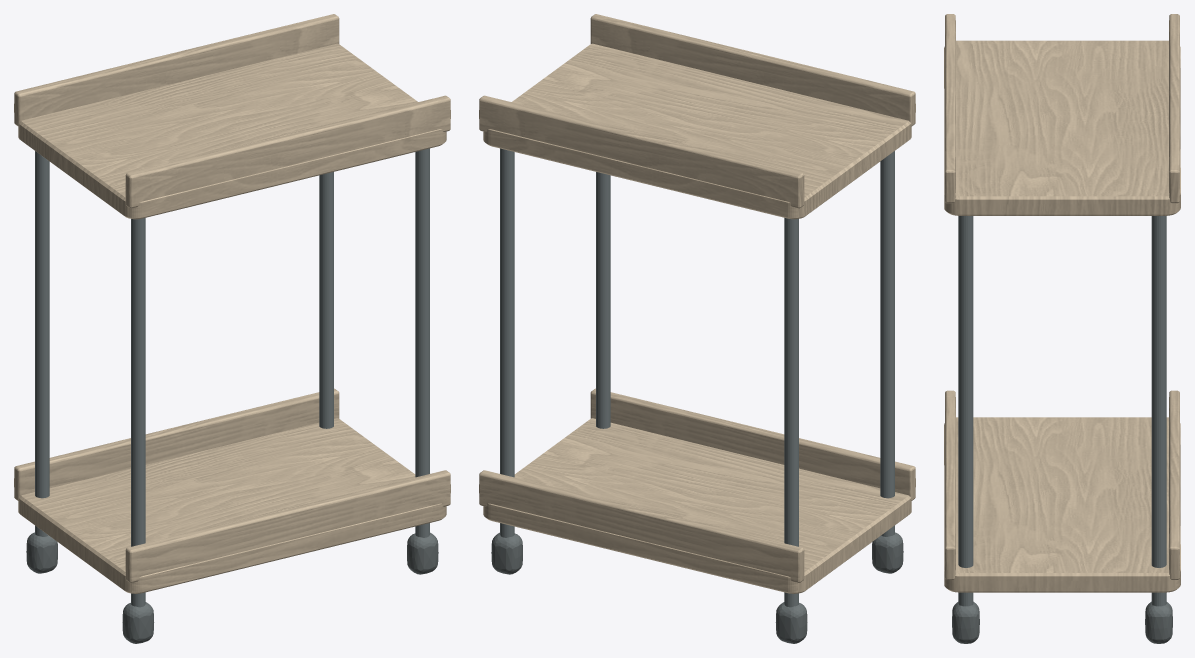
Rendered from kitchen_cart.glb.
3 renders of one model, left to right at view 1: azimuth 30°, elevation 25°; view 2: azimuth 150°, elevation 25°; view 3: azimuth 270°, elevation 25°, orthographic.
Visible parts, largest first — view 1: 木托盘_3, 木托盘_0, 挡沿_2, 挡沿_5, 挡沿_4, 挡沿_1, 金属立柱_6, 金属立柱_8, 金属立柱_12, 金属立柱_10, 脚轮_13, 脚轮_9 (+1 smaller); view 2: 木托盘_3, 木托盘_0, 挡沿_4, 挡沿_1, 挡沿_5, 挡沿_2, 金属立柱_8, 金属立柱_6, 金属立柱_10, 金属立柱_12, 脚轮_11, 脚轮_7 (+1 smaller); view 3: 木托盘_3, 木托盘_0, 金属立柱_10, 金属立柱_12, 挡沿_4, 挡沿_5, 挡沿_1, 挡沿_2, 脚轮_11, 脚轮_13.
Part boxes in pixels (x1,y1,x2,y2): 木托盘_3: (18, 43, 446, 219); 木托盘_0: (18, 418, 446, 593); 挡沿_2: (125, 470, 450, 582); 挡沿_5: (125, 95, 450, 208); 挡沿_4: (14, 14, 339, 126); 挡沿_1: (14, 388, 339, 500); 金属立柱_6: (35, 151, 49, 536); 金属立柱_8: (131, 218, 145, 607); 金属立柱_12: (415, 148, 429, 537); 金属立柱_10: (319, 172, 333, 428); 脚轮_13: (407, 532, 438, 574); 脚轮_9: (122, 602, 154, 643); 木托盘_3: (483, 43, 911, 219); 木托盘_0: (483, 418, 911, 593); 挡沿_4: (479, 95, 804, 208); 挡沿_1: (479, 470, 804, 582); 挡沿_5: (590, 14, 915, 126); 挡沿_2: (590, 388, 915, 500); 金属立柱_8: (880, 151, 894, 536); 金属立柱_6: (784, 218, 798, 607); 金属立柱_10: (500, 148, 514, 537); 金属立柱_12: (596, 172, 610, 428); 脚轮_11: (491, 532, 522, 574); 脚轮_7: (775, 602, 807, 643); 木托盘_3: (944, 40, 1180, 215); 木托盘_0: (944, 417, 1180, 592); 金属立柱_10: (1151, 216, 1166, 606); 金属立柱_12: (958, 216, 973, 606); 挡沿_4: (1169, 14, 1180, 203); 挡沿_5: (944, 14, 955, 203); 挡沿_1: (1169, 390, 1180, 579); 挡沿_2: (944, 390, 955, 579); 脚轮_11: (1145, 601, 1172, 643); 脚轮_13: (952, 601, 979, 643).
Size of the model in its own units: 0.6 by 0.85 by 0.38.
Materials: 3 (1 with a texture image).
